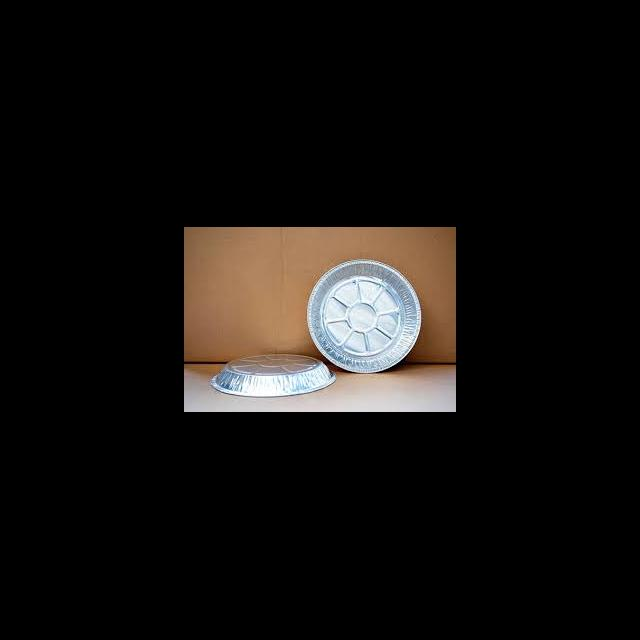metal: (305, 260, 420, 374), (210, 353, 335, 398)
